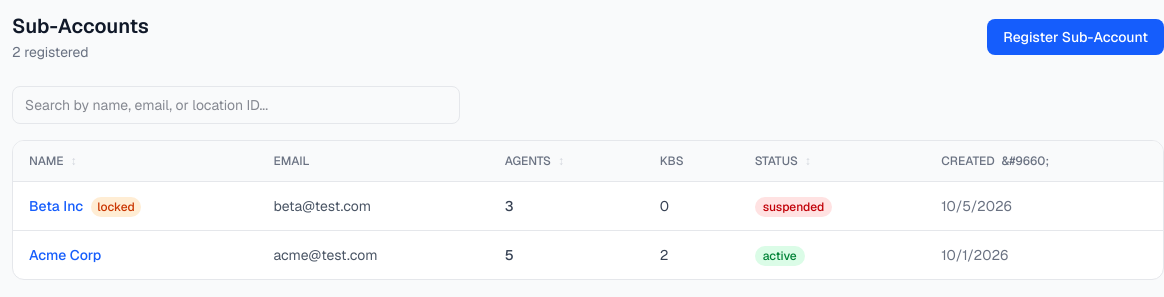
Test: TenantsTable › filters by search text
Type "Acme" into the field with placeholder "Search by name, email, or location ID...". click: x=236, y=105
box: [12,86,460,124]
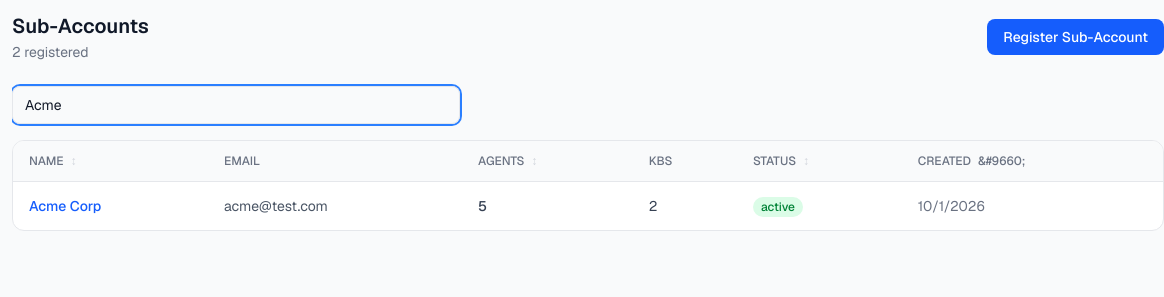
Expected: the link "Acme Corp" is shown, [29,197,101,215]
Now the link "Beta Inc" is gone
